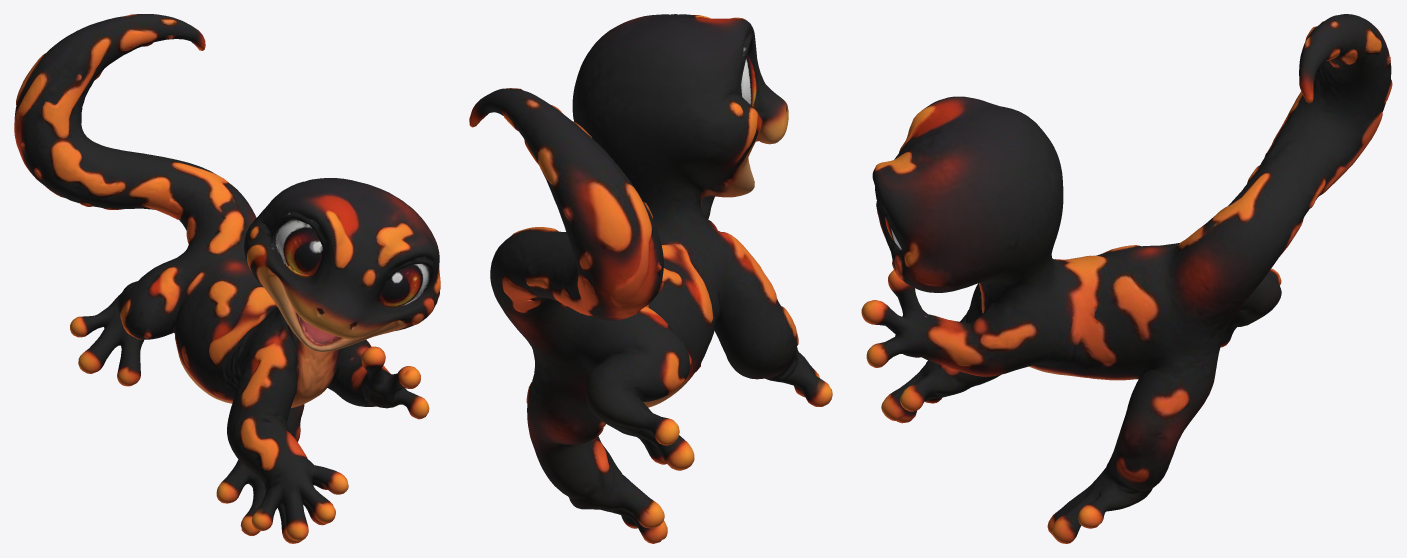
The model's file is lavaris_3d.glb.
3 renders of one model, left to right at view 1: azimuth 30°, elevation 25°; view 2: azimuth 150°, elevation 25°; view 3: azimuth 270°, elevation 25°, orthographic. The views are drawn at different scales.
Visible parts, largest first — view 1: tripo_node_6f0be271-030c-45ec-8227-a9c3c63db653; view 2: tripo_node_6f0be271-030c-45ec-8227-a9c3c63db653; view 3: tripo_node_6f0be271-030c-45ec-8227-a9c3c63db653.
Boxes of the visible parts, bbox=[...] form: tripo_node_6f0be271-030c-45ec-8227-a9c3c63db653: bbox=[14, 14, 440, 543]; tripo_node_6f0be271-030c-45ec-8227-a9c3c63db653: bbox=[469, 14, 832, 543]; tripo_node_6f0be271-030c-45ec-8227-a9c3c63db653: bbox=[861, 14, 1392, 543].
Size of the model in its own units: 0.5482 by 0.9999 by 0.9747.
Materials: 1 (1 with a texture image).
